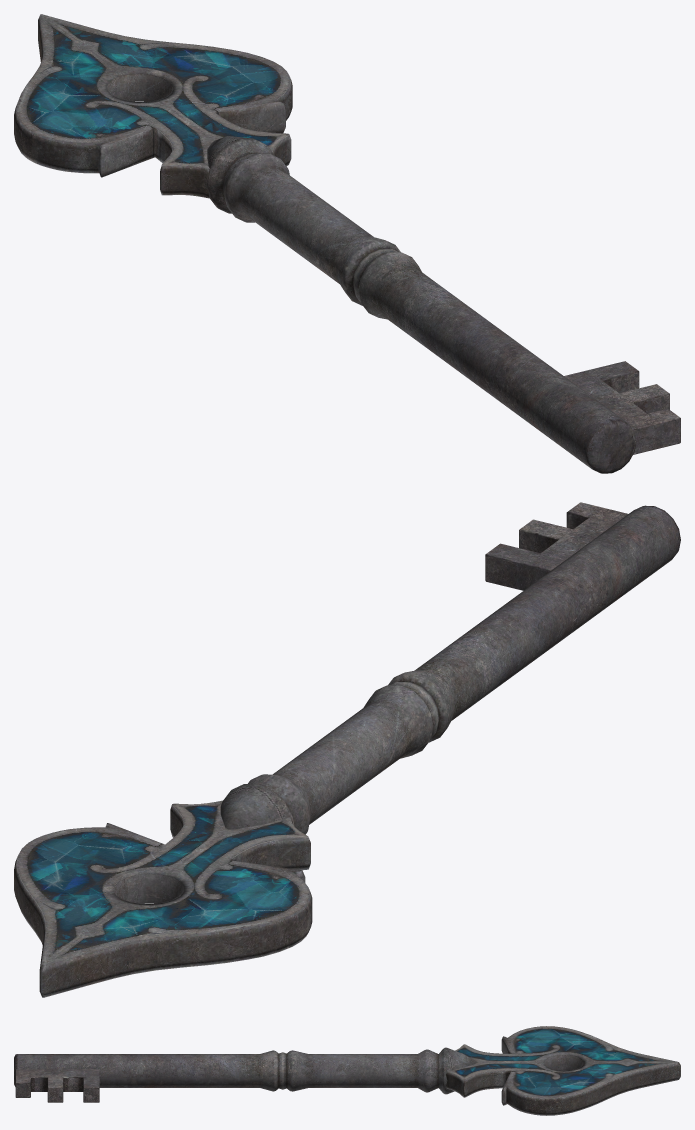
File: sm73_103_spadekey01a.fbx
3 views of the same model, one above another, from view 1: azimuth 30°, elevation 25°; view 2: azimuth 150°, elevation 25°; view 3: azimuth 270°, elevation 25° (orthographic). The views are drawn at different scales.
Parts seen in each view (by area): view 1: LOD_1_Group_0_Sub_1__sm73_103_SpadeKey01A_A_Mat, LOD_1_Group_1_Sub_1__sm73_103_SpadeKey01A_A_Mat, LOD_1_Group_2_Sub_1__sm73_103_SpadeKey01A_A_Mat; view 2: LOD_1_Group_0_Sub_1__sm73_103_SpadeKey01A_A_Mat, LOD_1_Group_1_Sub_1__sm73_103_SpadeKey01A_A_Mat, LOD_1_Group_2_Sub_1__sm73_103_SpadeKey01A_A_Mat; view 3: LOD_1_Group_1_Sub_1__sm73_103_SpadeKey01A_A_Mat, LOD_1_Group_0_Sub_1__sm73_103_SpadeKey01A_A_Mat, LOD_1_Group_2_Sub_1__sm73_103_SpadeKey01A_A_Mat.
Boxes of the visible parts, bbox=[...] form: LOD_1_Group_0_Sub_1__sm73_103_SpadeKey01A_A_Mat: bbox=[14, 14, 292, 198]; LOD_1_Group_1_Sub_1__sm73_103_SpadeKey01A_A_Mat: bbox=[206, 136, 636, 473]; LOD_1_Group_2_Sub_1__sm73_103_SpadeKey01A_A_Mat: bbox=[564, 361, 680, 454]; LOD_1_Group_0_Sub_1__sm73_103_SpadeKey01A_A_Mat: bbox=[14, 800, 312, 997]; LOD_1_Group_1_Sub_1__sm73_103_SpadeKey01A_A_Mat: bbox=[220, 505, 680, 834]; LOD_1_Group_2_Sub_1__sm73_103_SpadeKey01A_A_Mat: bbox=[485, 502, 627, 590]; LOD_1_Group_1_Sub_1__sm73_103_SpadeKey01A_A_Mat: bbox=[14, 1047, 477, 1094]; LOD_1_Group_0_Sub_1__sm73_103_SpadeKey01A_A_Mat: bbox=[446, 1026, 680, 1115]; LOD_1_Group_2_Sub_1__sm73_103_SpadeKey01A_A_Mat: bbox=[15, 1069, 99, 1102].
Bounding box in the file's own units: 0.0341 × 0.00915 × 0.1309.
